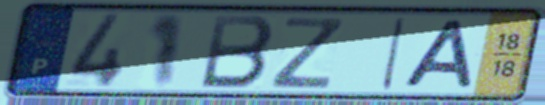1: (144, 11, 183, 91)
4: (67, 12, 127, 90)
A: (399, 17, 477, 91)
B: (197, 13, 278, 92)
I: (377, 15, 411, 93)
Z: (266, 14, 348, 91)
